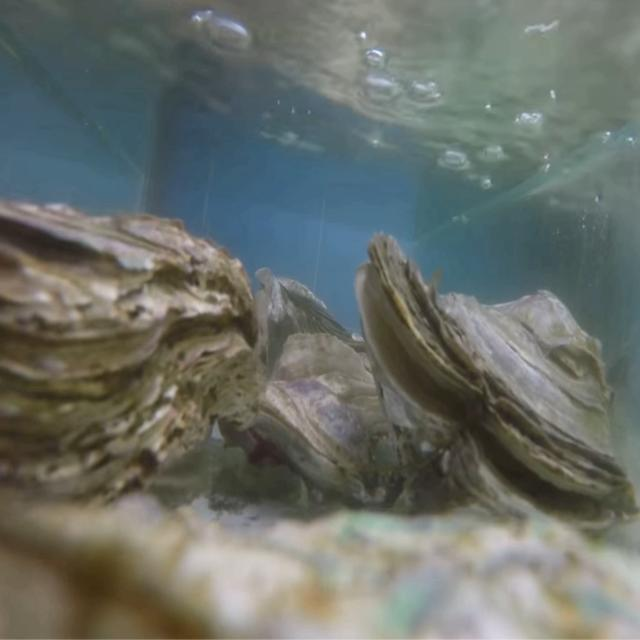Oyster-Closed: (0, 200, 258, 530), (252, 334, 416, 516)
Oyster-Indeterminate: (0, 494, 640, 640)
Oyster-Open: (356, 233, 640, 542)
